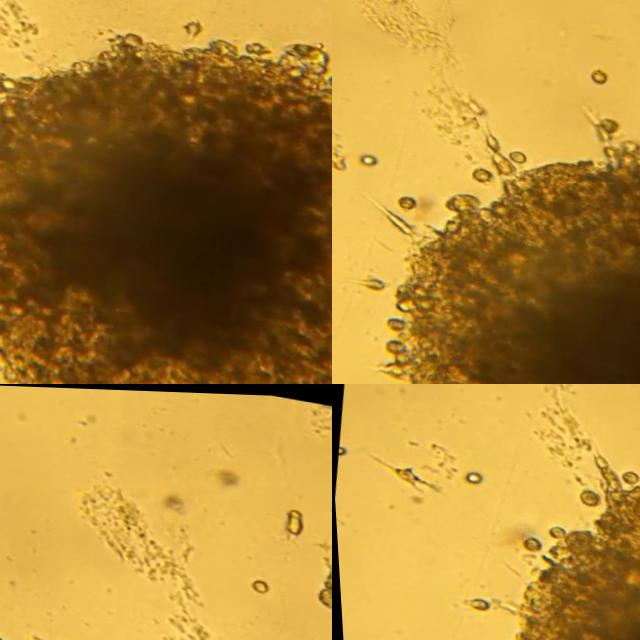cell: (358, 194, 408, 233), (387, 464, 428, 487), (482, 146, 514, 175), (336, 278, 379, 289), (284, 505, 300, 533), (179, 15, 196, 37), (462, 97, 484, 114), (590, 121, 608, 141), (316, 586, 332, 605), (467, 166, 487, 181), (461, 597, 481, 612), (245, 578, 266, 592), (516, 537, 537, 551), (576, 487, 594, 503), (355, 153, 374, 168), (587, 67, 606, 82), (480, 134, 499, 147), (243, 37, 265, 48), (619, 468, 635, 483), (596, 116, 614, 129), (505, 149, 524, 161), (321, 568, 332, 588), (396, 195, 412, 208), (542, 524, 558, 537), (460, 470, 477, 482), (336, 446, 342, 457)
tumor_mass: (370, 138, 640, 384)
